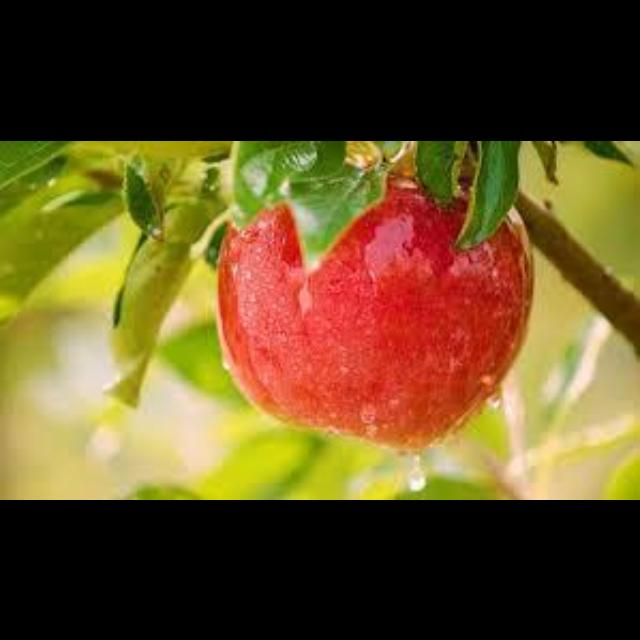apple: (218, 176, 531, 448)
